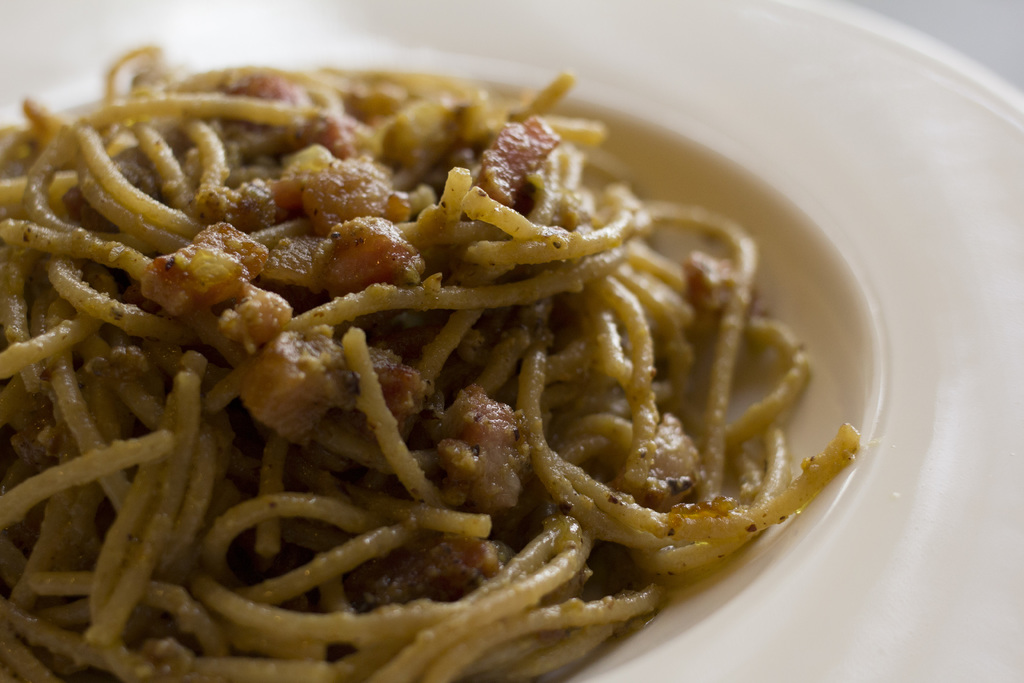pasta: (4, 35, 882, 668)
